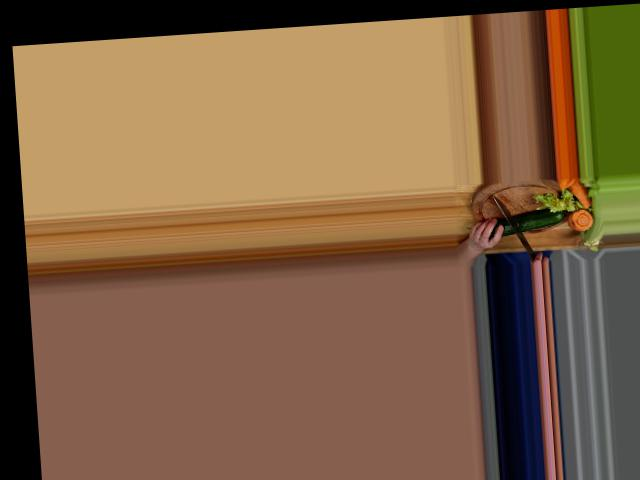cucumber: (488, 208, 566, 237)
